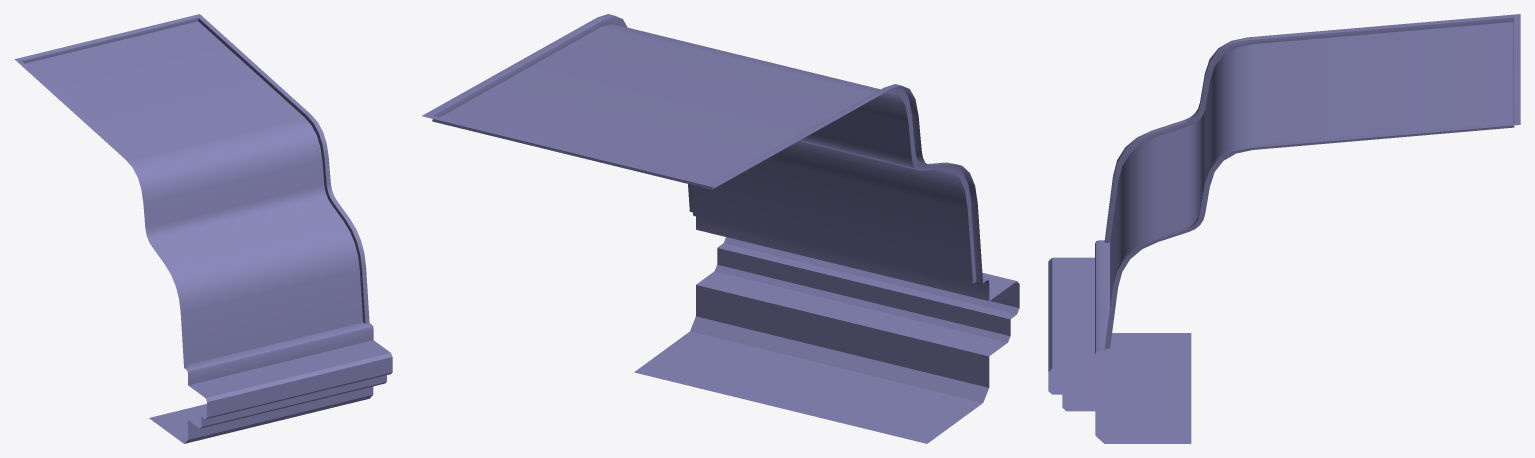
Rendered from M_A_roof_01.fbx.
3 renders of one model, left to right at view 1: azimuth 30°, elevation 25°; view 2: azimuth 150°, elevation 25°; view 3: azimuth 270°, elevation 25°, orthographic. The views are drawn at different scales.
Parts seen in each view (by area): view 1: M_A_roof_01; view 2: M_A_roof_01; view 3: M_A_roof_01.
Part boxes in pixels (box(x1,y1,x2,y2)): M_A_roof_01: box(14, 14, 392, 443); M_A_roof_01: box(422, 14, 1019, 443); M_A_roof_01: box(1048, 14, 1520, 443).
Size of the model in its own units: 200 by 268 by 360.
